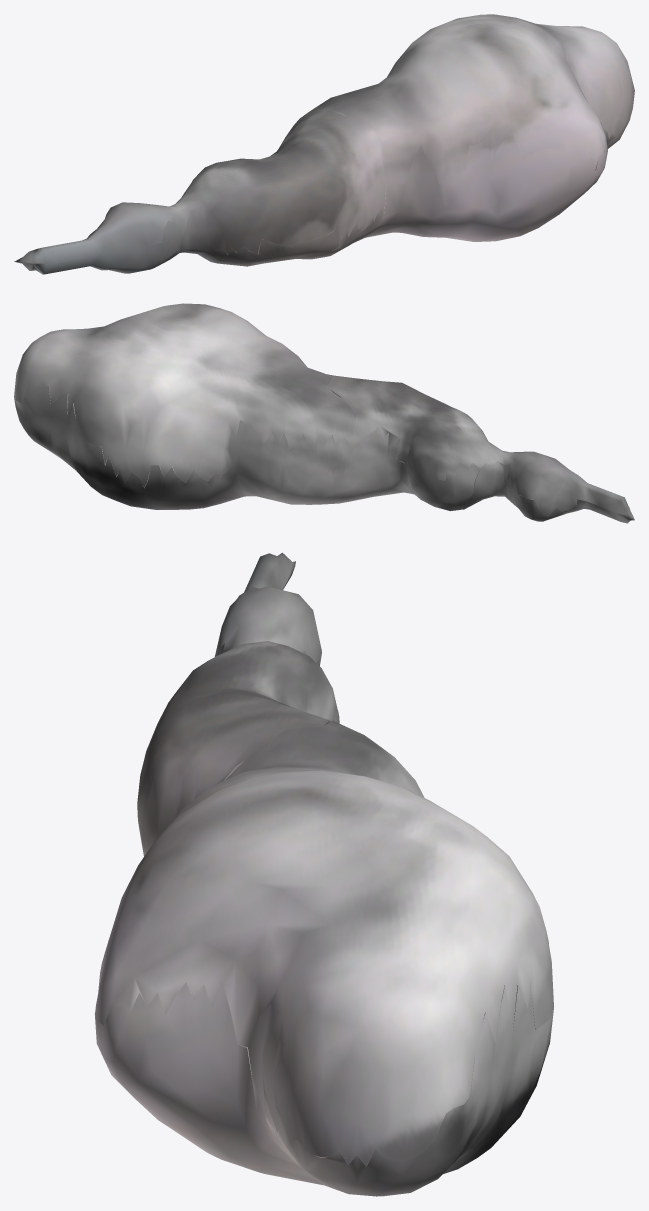
The model's file is smoke.glb.
3 views of the same model, one above another, from view 1: azimuth 30°, elevation 25°; view 2: azimuth 150°, elevation 25°; view 3: azimuth 270°, elevation 25° (orthographic). The views are drawn at different scales.
Visible parts, largest first — view 1: root.001; view 2: root.001; view 3: root.001.
Boxes of the visible parts, x1,y1,x2,y2 form: root.001: (14,14,634,274); root.001: (14,303,634,523); root.001: (94,552,553,1196).
Bounding box in the file's own units: 10.55 × 3.07 × 3.55.
Materials: 1 (1 with a texture image).
